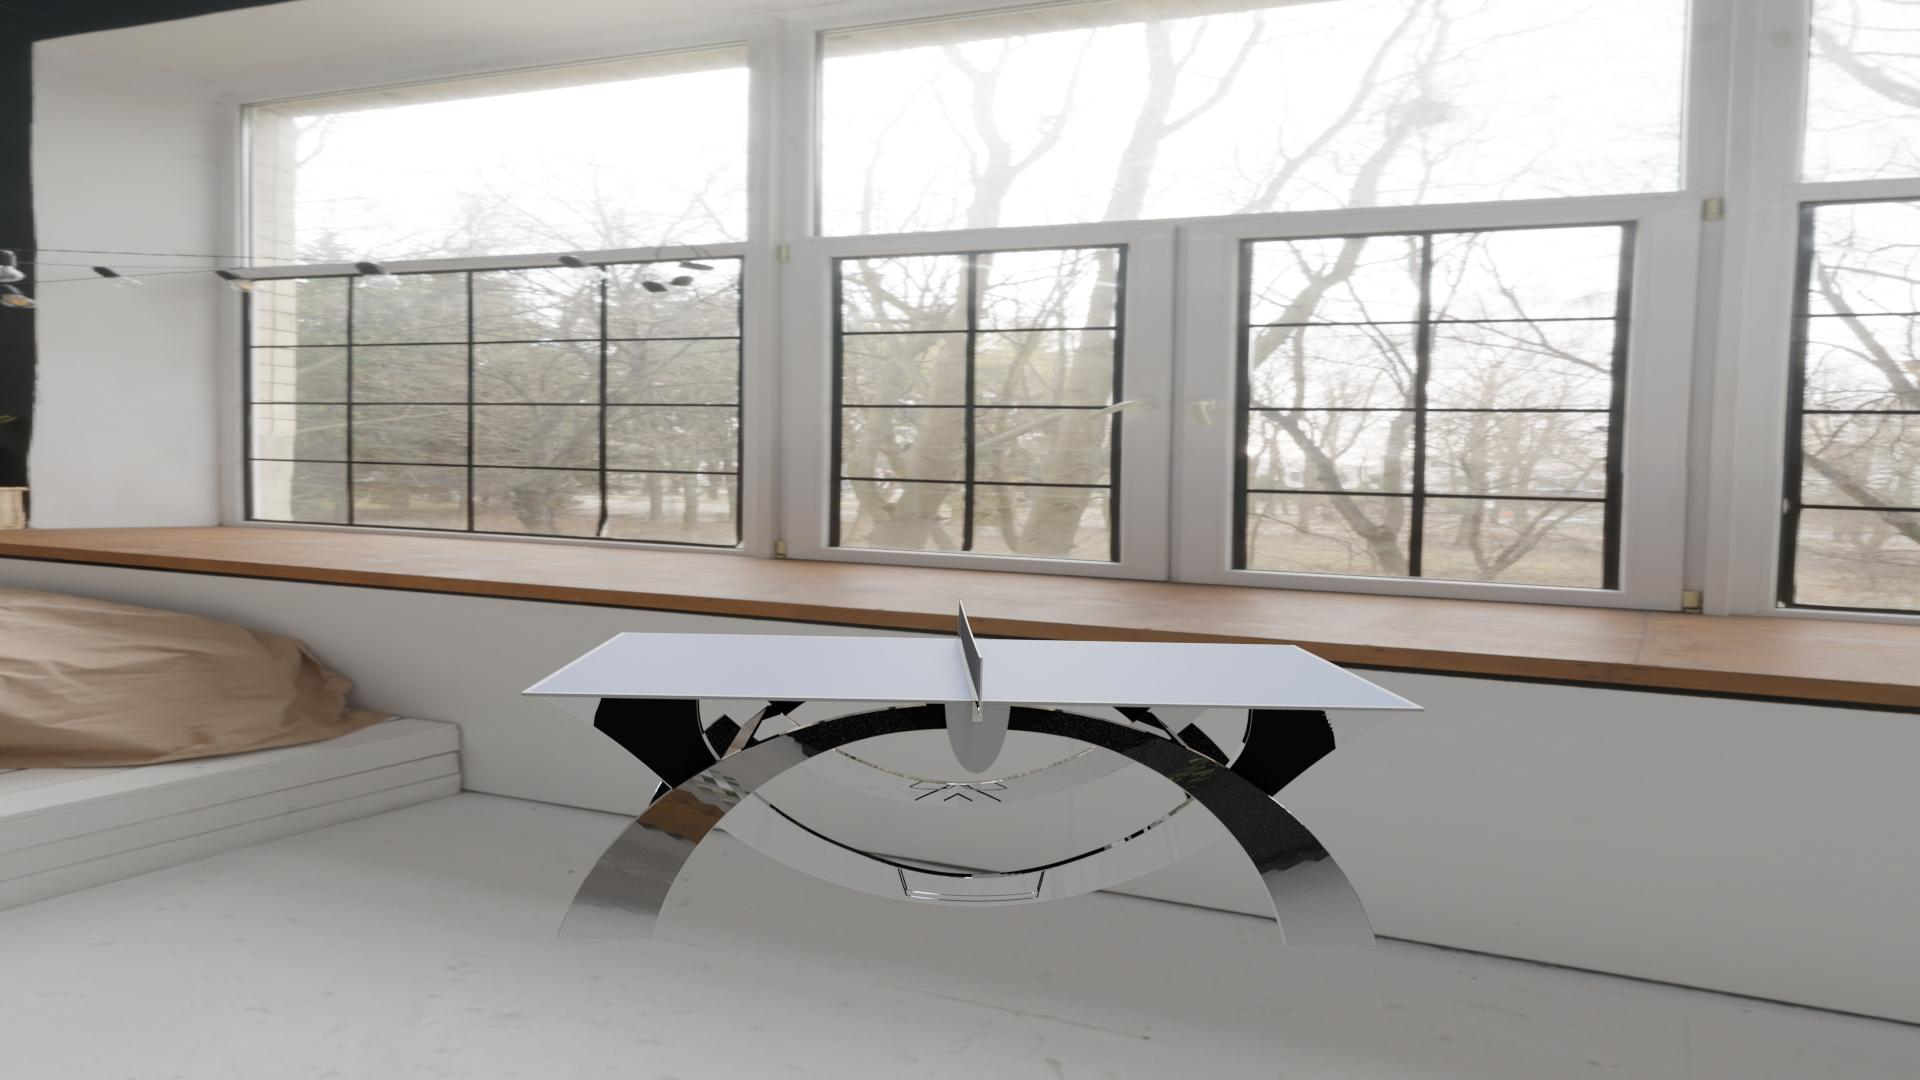table: (530, 633, 1416, 707)
